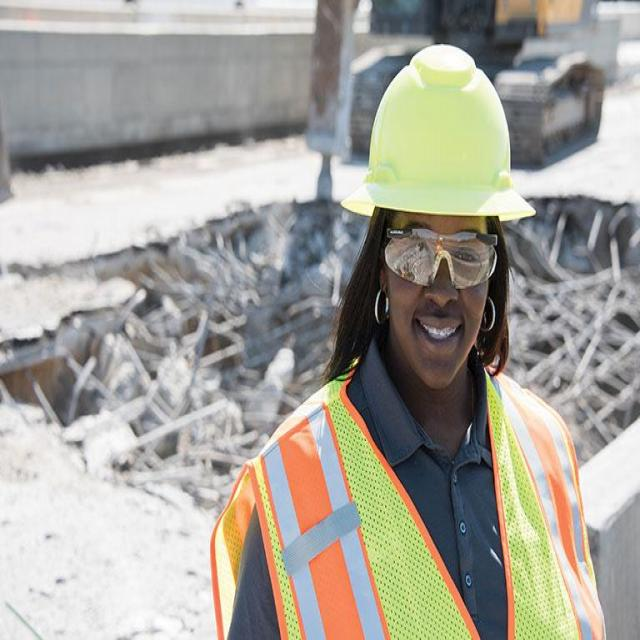Reflective-Jacket: (203, 365, 609, 640)
Safety-Helmet: (342, 40, 536, 237)
